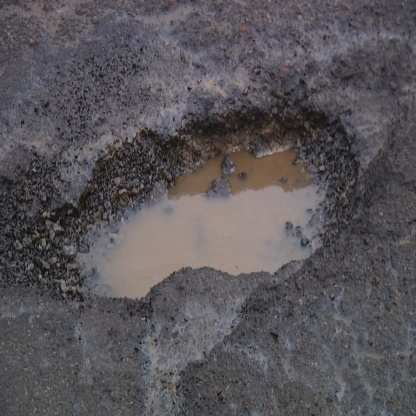pothole: (20, 84, 364, 342)
